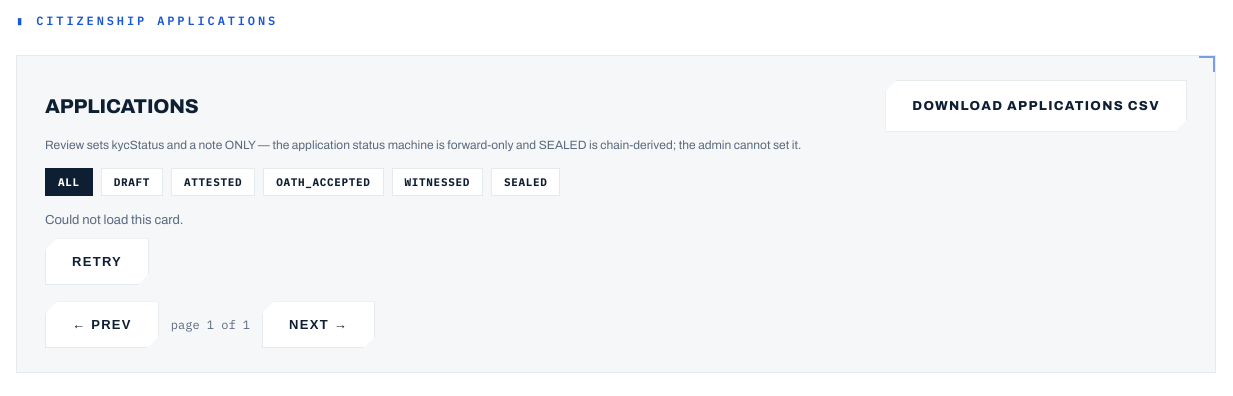
Test: ApplicationsApp › shows error + RETRY that refetches
The image size is (1233, 396).
Expected: the element with test id "applications-error" is shown, 45,213 -> 184,285
Click the button "Retry".
click(97, 262)  # box 45,238 -> 149,286
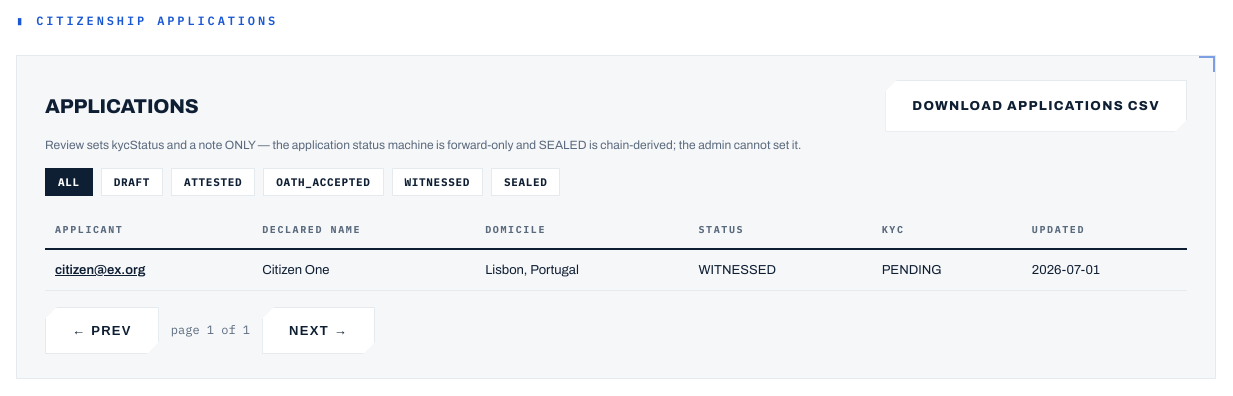
Result: the link "citizen@ex.org" is shown at 55,263 -> 145,277
